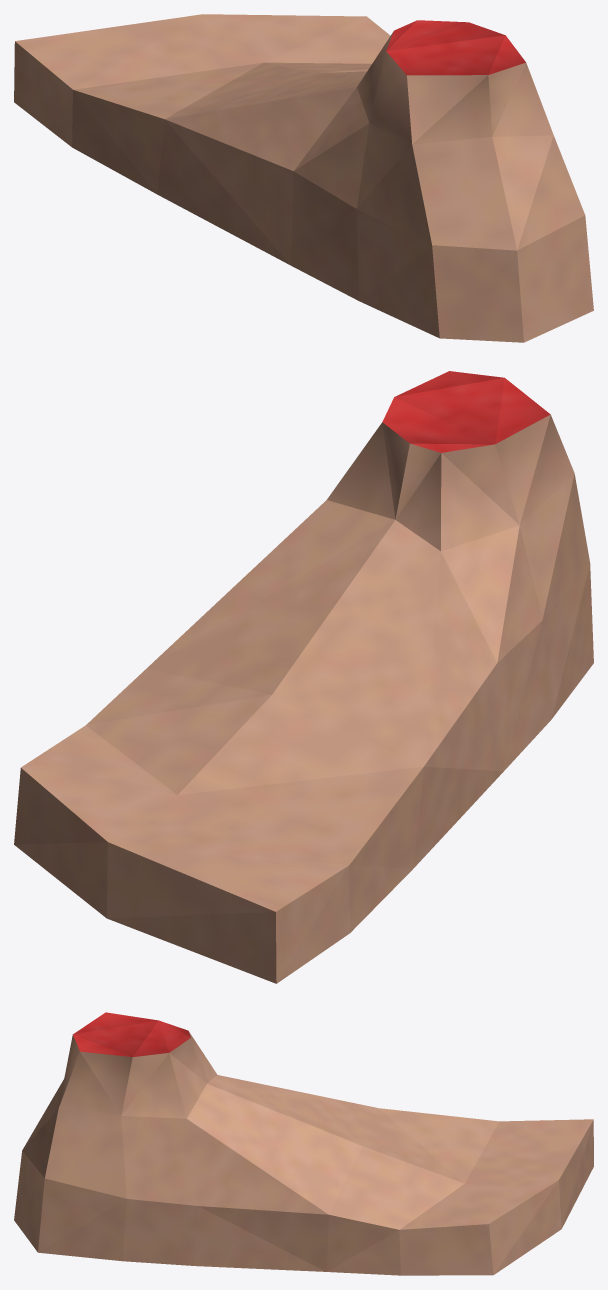
The model's file is g_foot.fbx.
The picture shows the model from 3 angles, top to bottom: view 1: azimuth 30°, elevation 25°; view 2: azimuth 150°, elevation 25°; view 3: azimuth 270°, elevation 25°; orthographic projection. The views are drawn at different scales.
Parts seen in each view (by area): view 1: foot; view 2: foot; view 3: foot.
Boxes of the visible parts, x1=… form: foot: x1=14, y1=14, x2=593, y2=342; foot: x1=14, y1=371, x2=593, y2=983; foot: x1=14, y1=1012, x2=593, y2=1275.
Bounding box in the file's own units: 0.1643 × 0.3635 × 0.129.
1 material, 1 textured.
